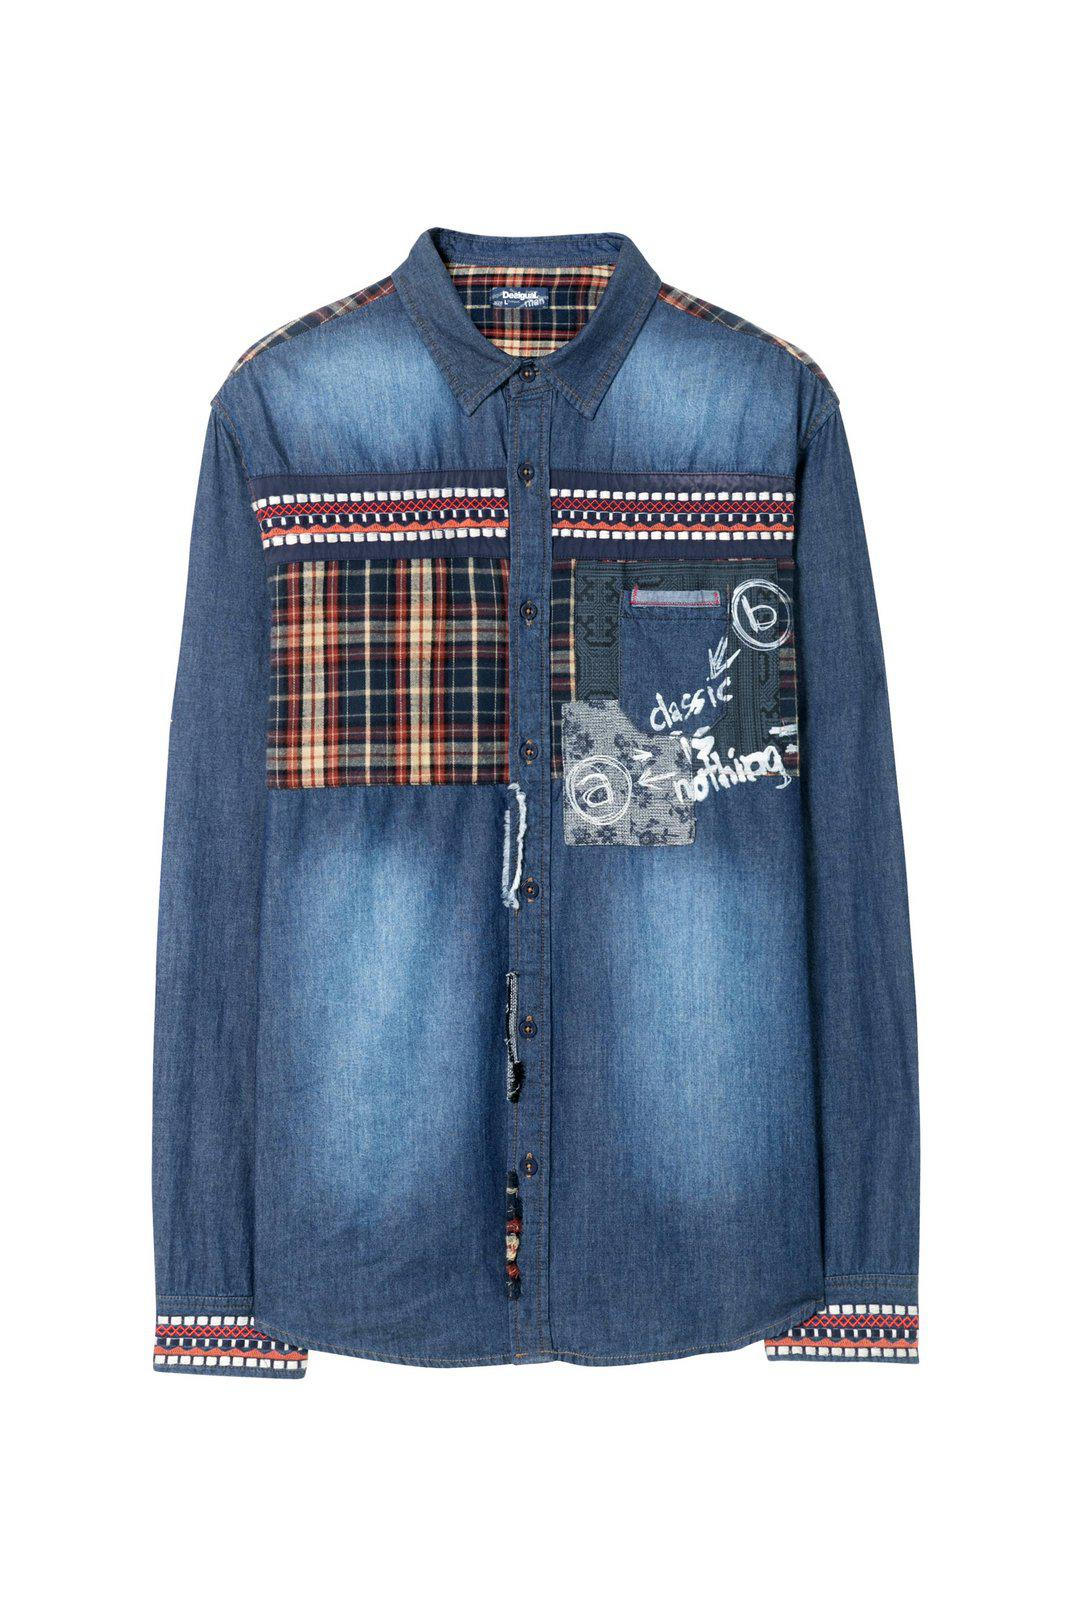teeshirt: (148, 230, 943, 1402)
